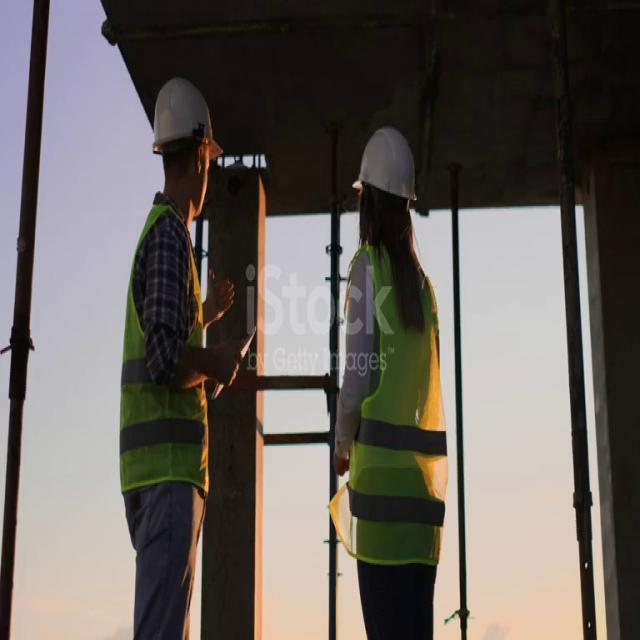capacete: (345, 115, 426, 223), (143, 76, 229, 170)
